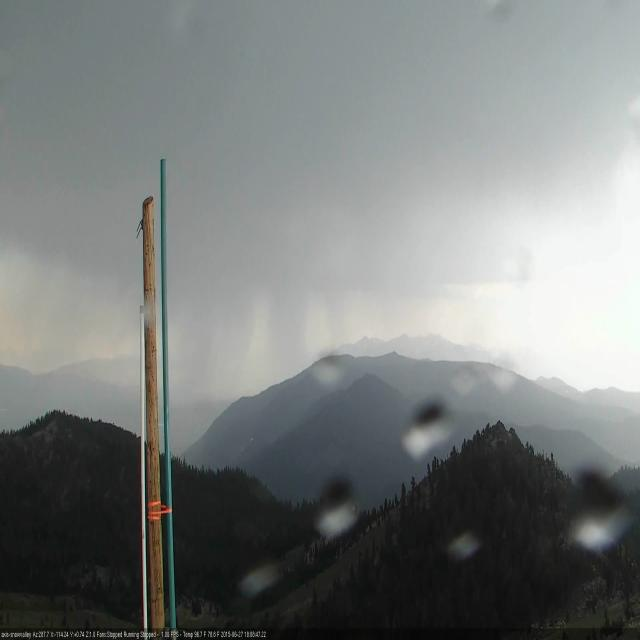smoke: (250, 436, 253, 441)
